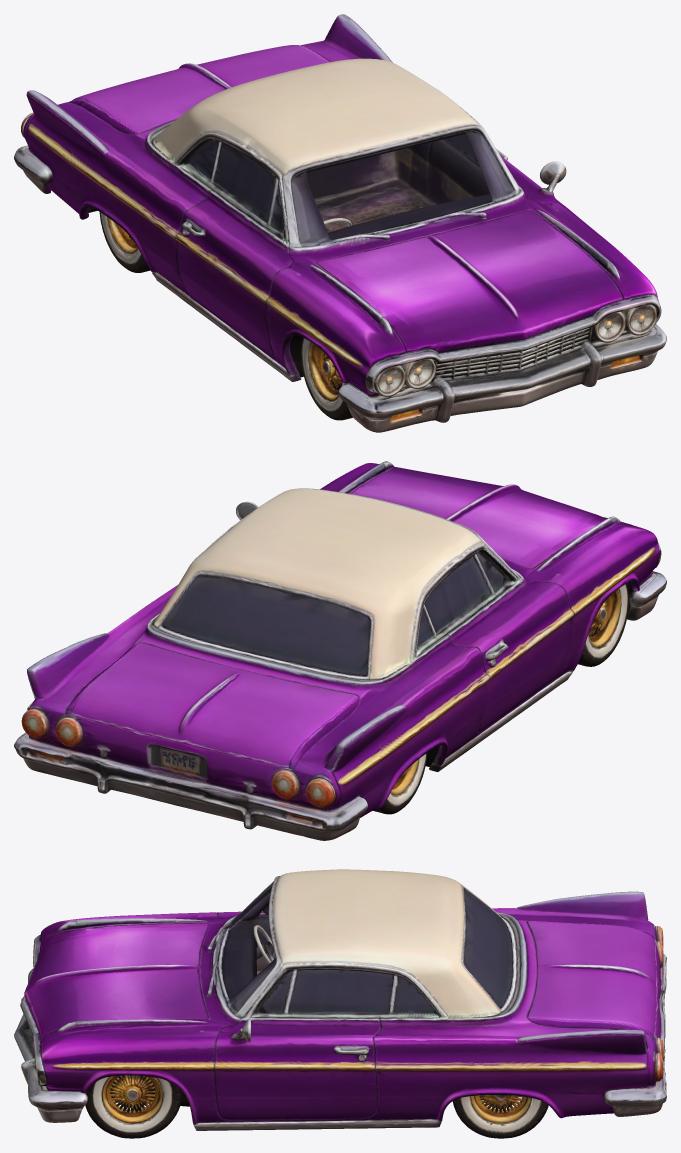
The model's file is lowrider.glb.
The picture shows the model from 3 angles, top to bottom: view 1: azimuth 30°, elevation 25°; view 2: azimuth 150°, elevation 25°; view 3: azimuth 270°, elevation 25°; orthographic projection. The views are drawn at different scales.
Visible parts, largest first — view 1: tripo_node_541a4823-14ab-4ed3-92c6-7e4bb72a44d5; view 2: tripo_node_541a4823-14ab-4ed3-92c6-7e4bb72a44d5; view 3: tripo_node_541a4823-14ab-4ed3-92c6-7e4bb72a44d5.
Part boxes in pixels (bbox=[...]): tripo_node_541a4823-14ab-4ed3-92c6-7e4bb72a44d5: bbox=[14, 14, 666, 432]; tripo_node_541a4823-14ab-4ed3-92c6-7e4bb72a44d5: bbox=[14, 461, 666, 840]; tripo_node_541a4823-14ab-4ed3-92c6-7e4bb72a44d5: bbox=[14, 869, 666, 1138].
Size of the model in its own units: 0.5251 by 0.2869 by 0.979.
1 material, 1 textured.
